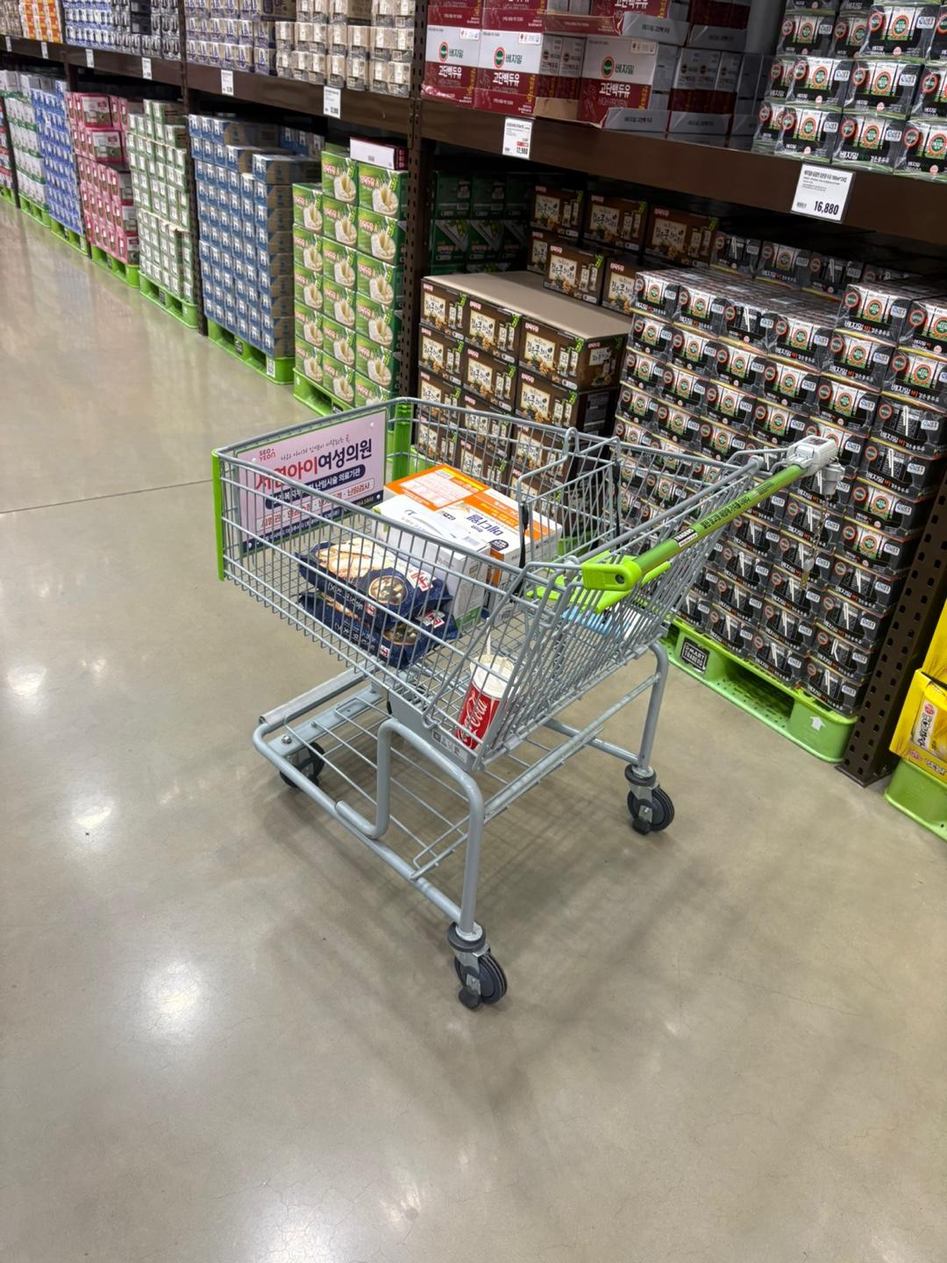fully_cart: (205, 378, 854, 1024)
